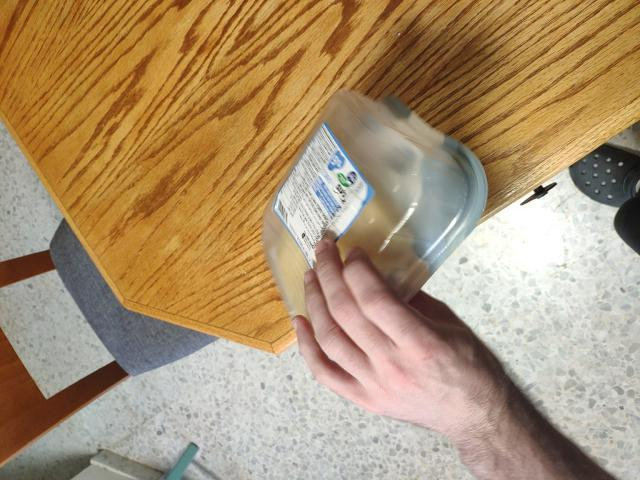cheese: (255, 86, 472, 373)
